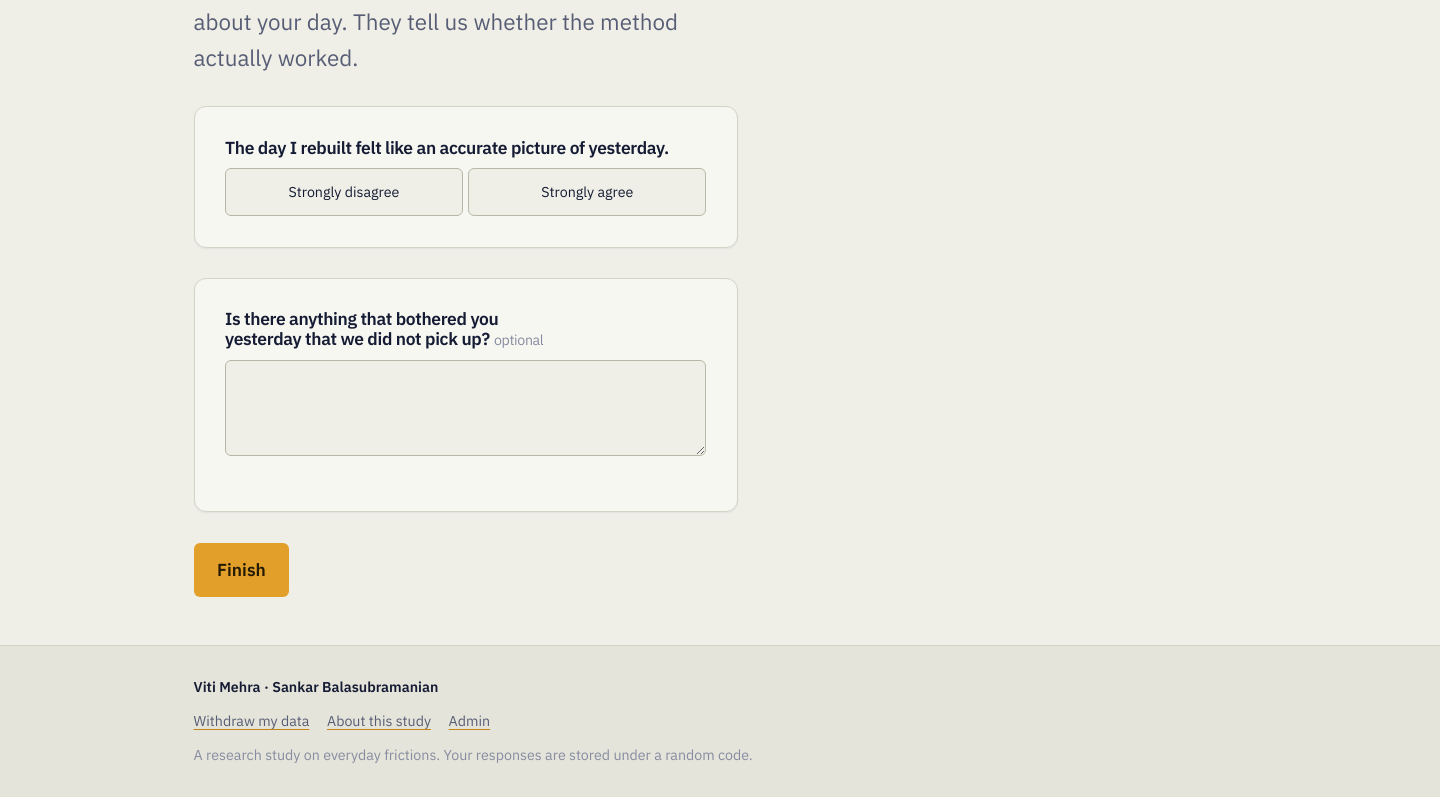
Test: the post-questionnaire blocks on an unanswered required question
(page scrolled)
Click the button "Finish": {"x": 241, "y": 570} [194, 543, 289, 597]
(page scrolled)
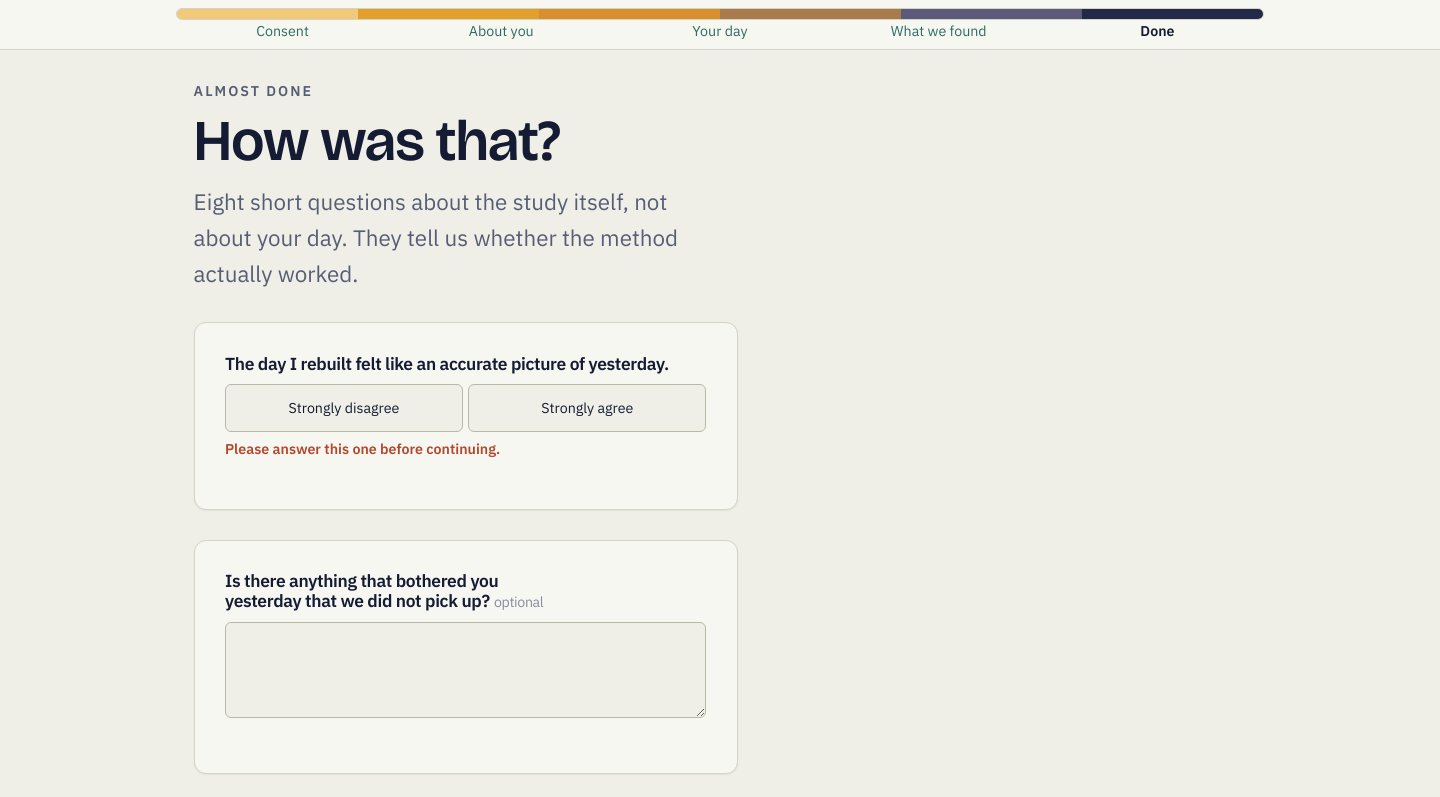
Expected: the message shows "answer this one", [225, 439, 500, 458]
